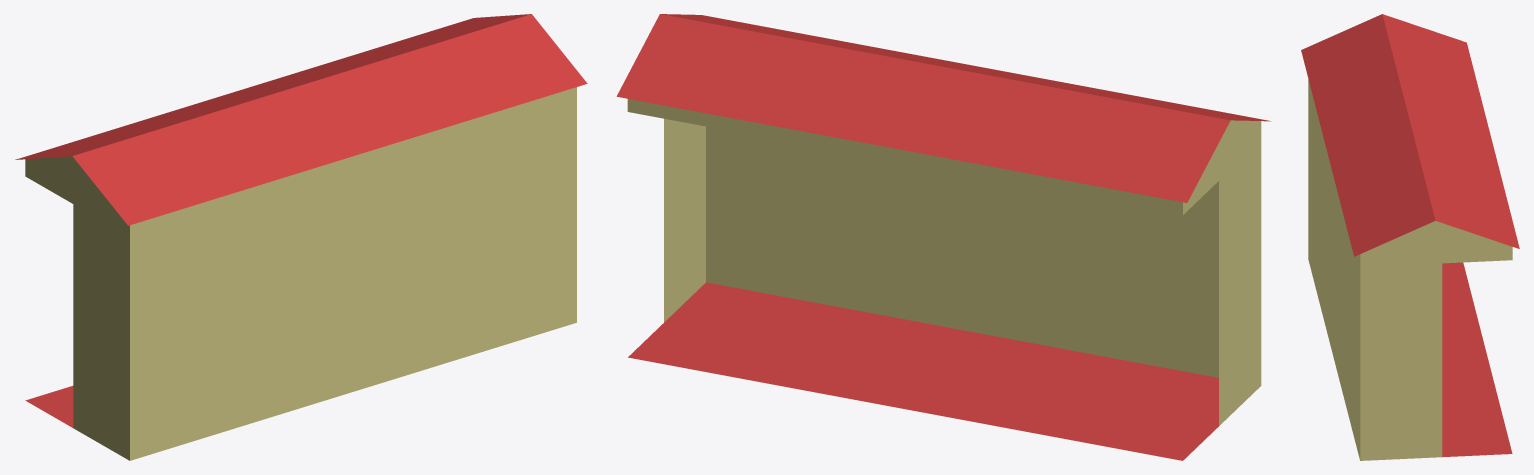
3 renders of one model, left to right at view 1: azimuth 30°, elevation 25°; view 2: azimuth 150°, elevation 25°; view 3: azimuth 270°, elevation 25°, orthographic. The views are drawn at different scales.
Bounding box in the file's own units: 18.85 × 8.13 × 9.82.
